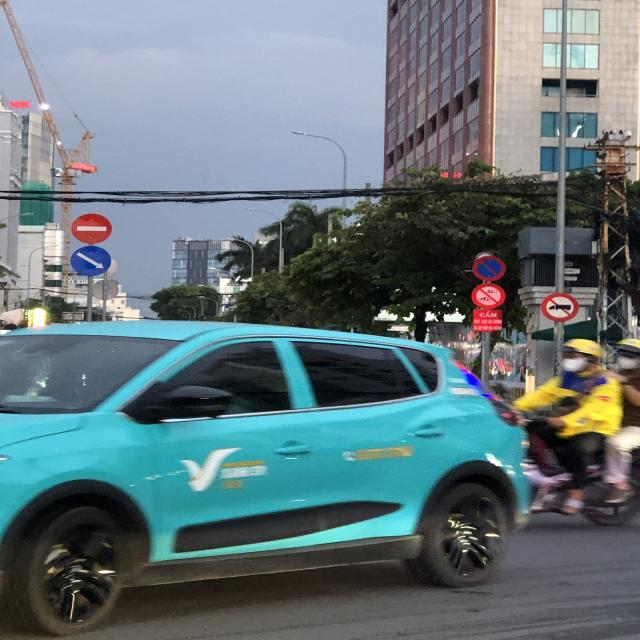Bien bao cam di nguoc chieu: (70, 210, 115, 246)
Bien bao cam do xe: (470, 253, 506, 283)
Bien bao cam xe so-mi ro-mooc: (538, 292, 579, 322)
Bien bao huong phai di vong chuong ngai vat: (67, 242, 113, 282)
